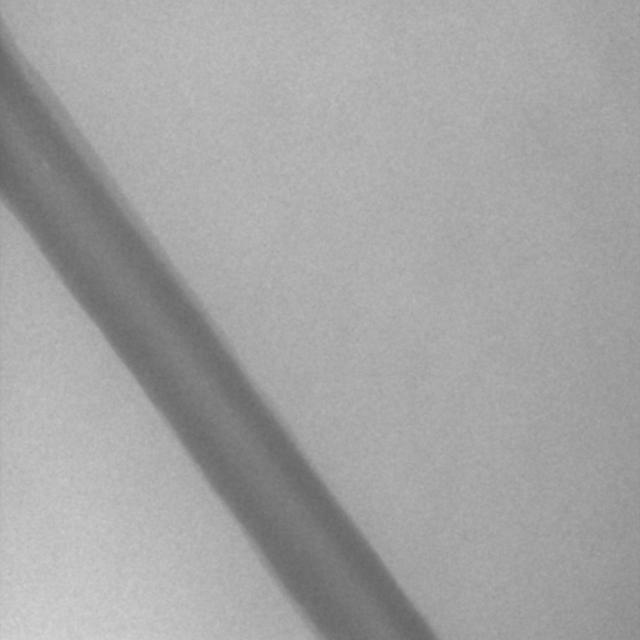air-hole: (42, 157, 54, 174)
